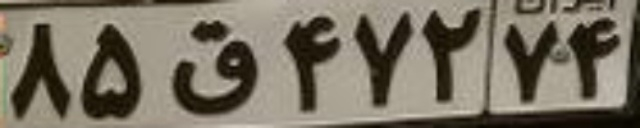2: (422, 8, 483, 102)
4: (283, 16, 340, 111), (566, 18, 622, 98)
5: (80, 23, 143, 120)
7: (351, 10, 416, 107), (501, 21, 561, 103)
8: (7, 21, 70, 120)
ghaf: (168, 16, 261, 115)
